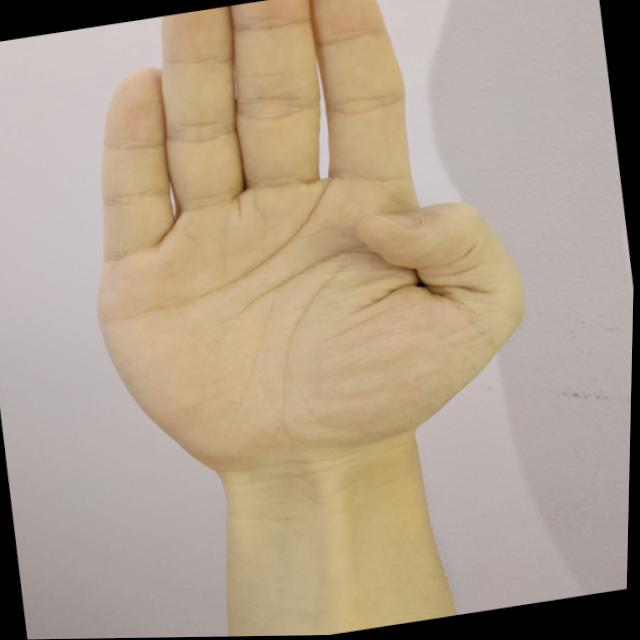B: (31, 0, 574, 521)
